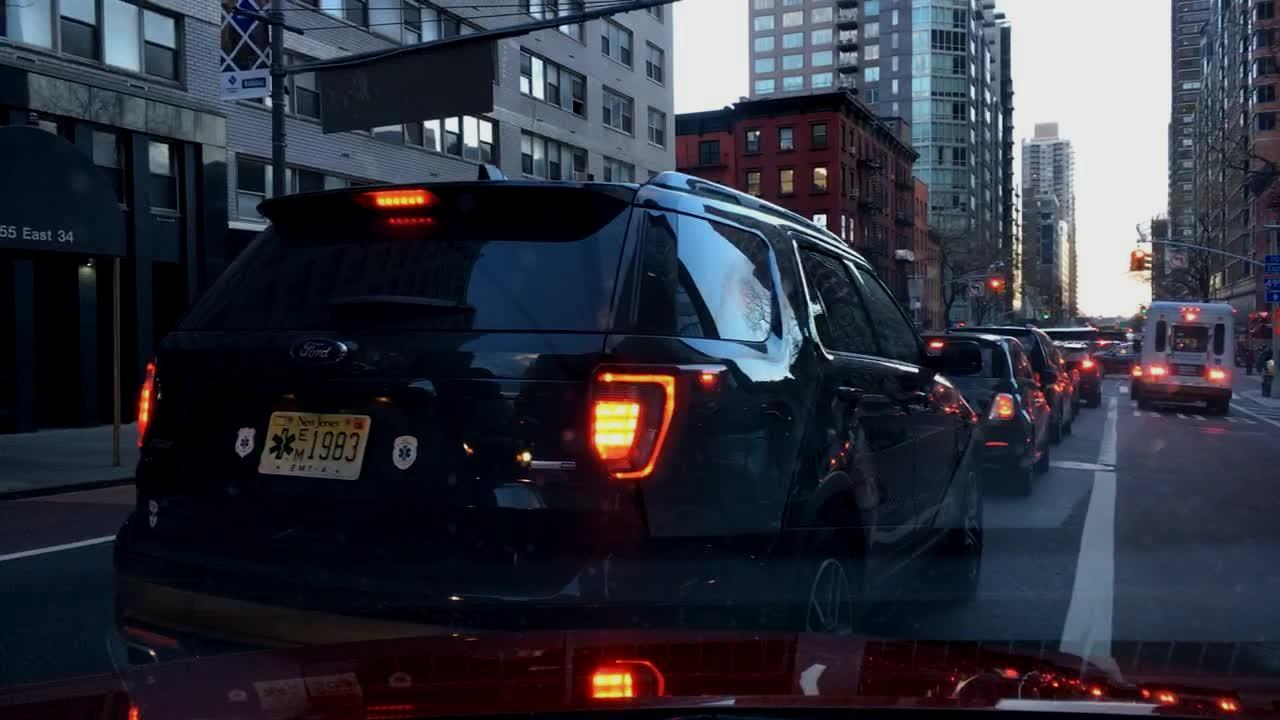ford: (280, 329, 360, 374)
